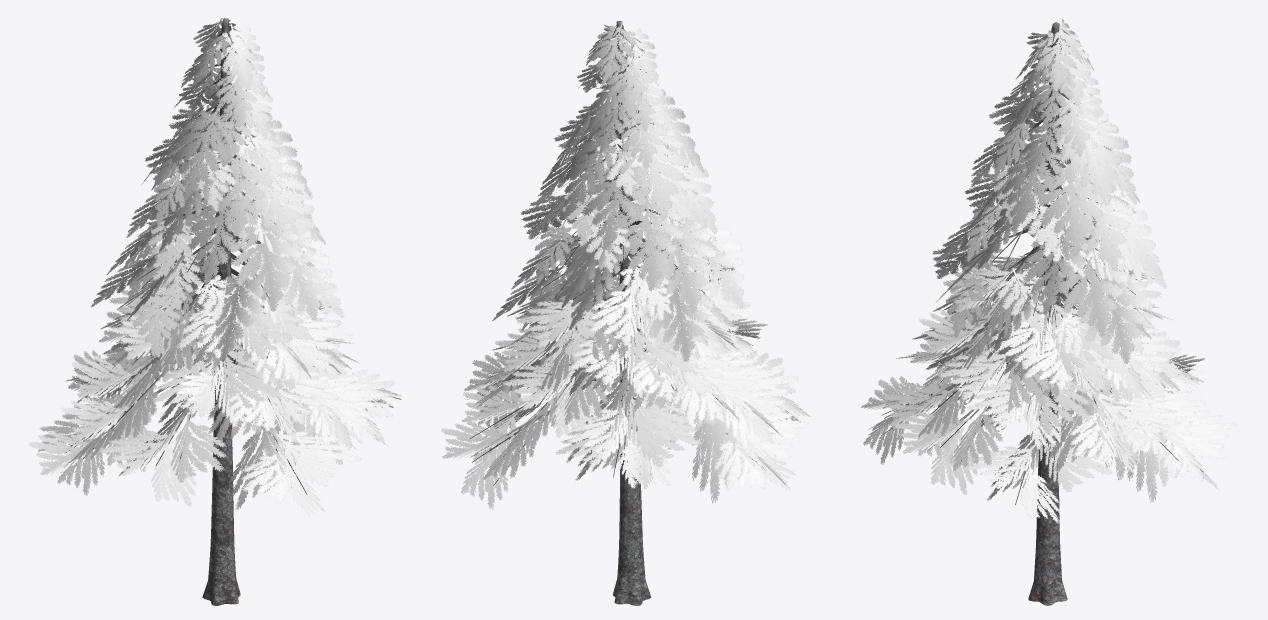
The model's file is Spruce_LOD0_P3310_B2930_L380_v05.fbx.
The picture shows the model from 3 angles, left to right: view 1: azimuth 30°, elevation 25°; view 2: azimuth 150°, elevation 25°; view 3: azimuth 270°, elevation 25°; orthographic projection.
Visible parts, largest first — view 1: leafcard_spruce_01_1, sprucebark_0; view 2: leafcard_spruce_01_1, sprucebark_0; view 3: leafcard_spruce_01_1, sprucebark_0.
Part boxes in pixels (bbox=[...]): leafcard_spruce_01_1: bbox=[28, 18, 401, 516]; sprucebark_0: bbox=[65, 18, 400, 605]; leafcard_spruce_01_1: bbox=[441, 21, 810, 509]; sprucebark_0: bbox=[470, 21, 770, 605]; leafcard_spruce_01_1: bbox=[861, 18, 1237, 523]; sprucebark_0: bbox=[881, 22, 1203, 605].
Bounding box in the file's own units: 410 × 668 × 408.
